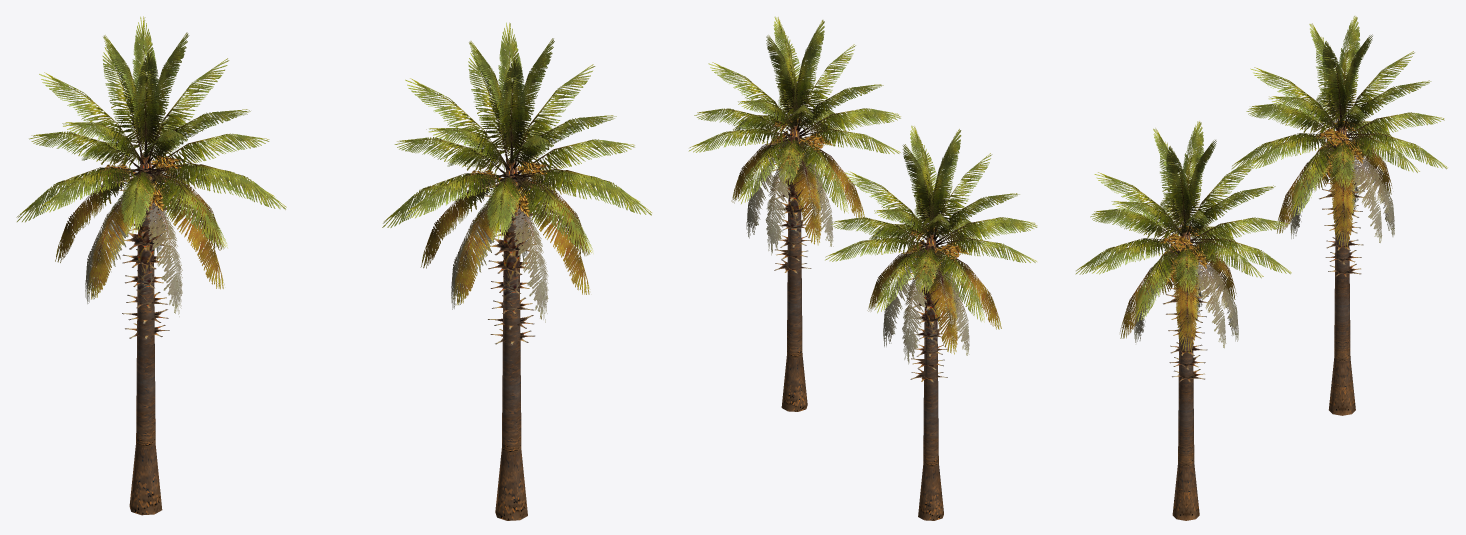
The model's file is palace_f2.dae.
The picture shows the model from 3 angles, left to right: view 1: azimuth 30°, elevation 25°; view 2: azimuth 150°, elevation 25°; view 3: azimuth 270°, elevation 25°; orthographic projection. The views are drawn at different scales.
Visible parts, largest first — view 1: palace_f2; view 2: palace_f2; view 3: palace_f2.
Boxes of the visible parts, bbox=[...] form: palace_f2: bbox=[16, 16, 651, 520]; palace_f2: bbox=[688, 16, 1037, 520]; palace_f2: bbox=[1075, 16, 1447, 520].
Bounding box in the file's own units: 15.63 × 12.31 × 13.74.
